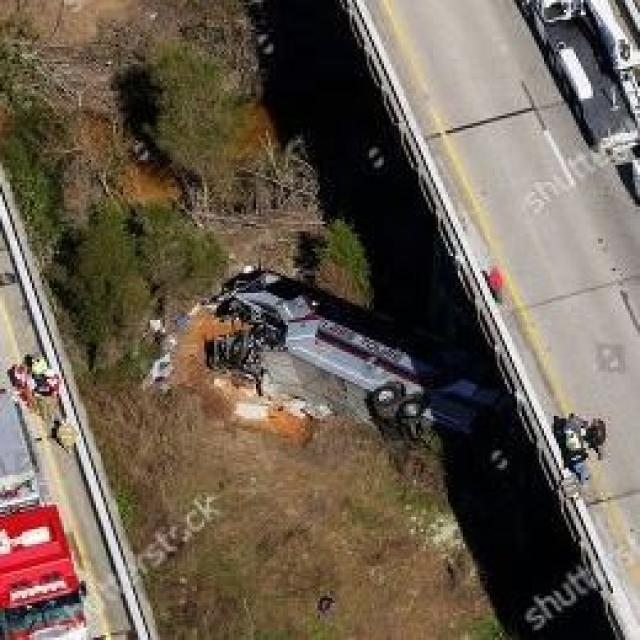traffic_incident: (212, 256, 494, 460)
